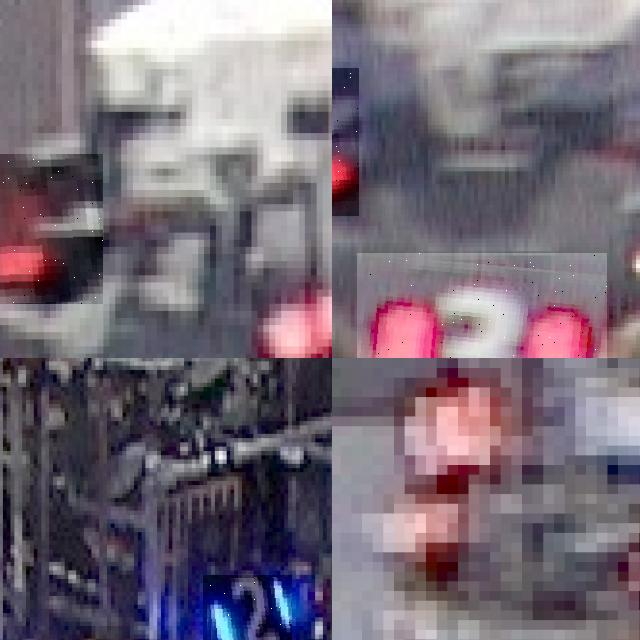B2: (203, 574, 291, 640)
R3: (356, 253, 607, 358)
R4: (0, 154, 103, 303)
